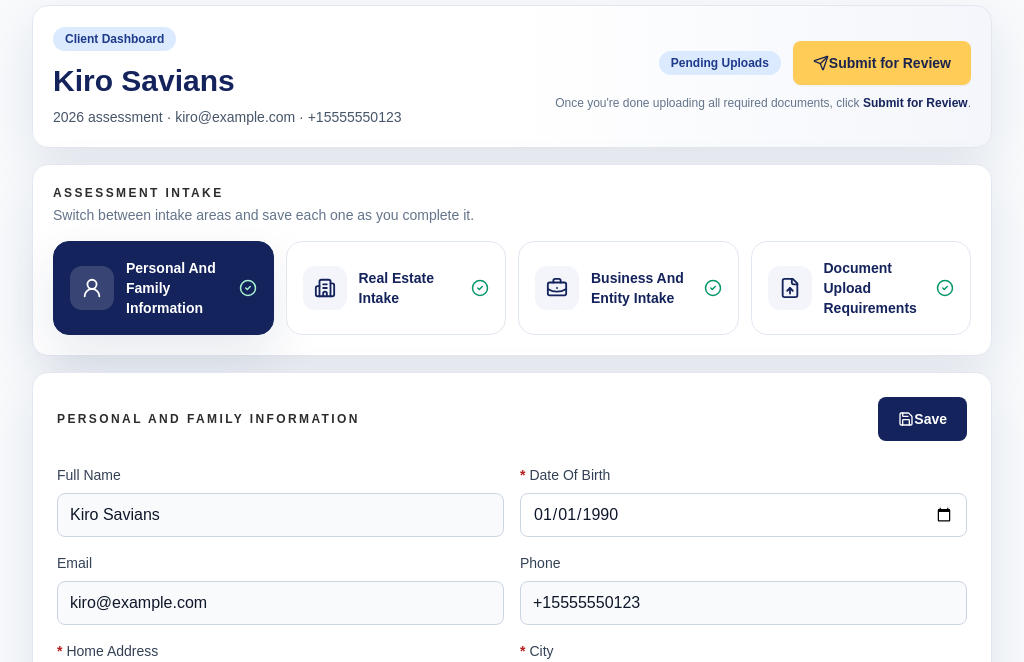
Test: PortalDashboardClient › autosaves edits when switching to an earlier tab
Expected: the heading "Kiro Savians" is shown, [53, 64, 235, 97]
Step 1. Click the button "Real Estate Intake" → click(396, 288), box [286, 241, 506, 335]
(page scrolled)
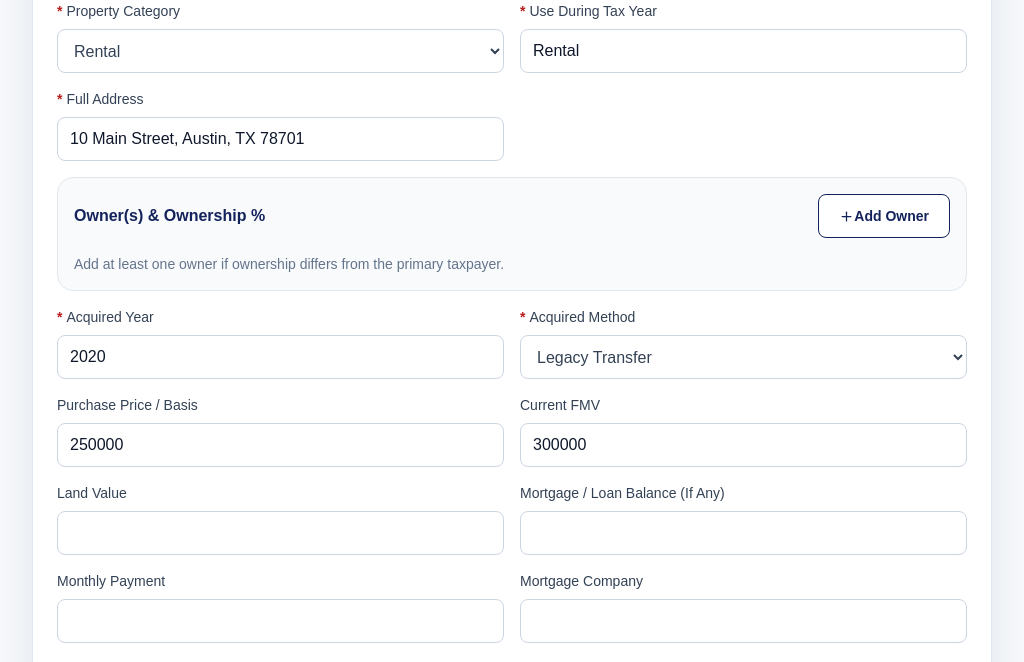
Step 2. Select "Gift" in the dropdown labelled "Acquired Method" → (744, 357), box [520, 335, 967, 379]
(page scrolled)
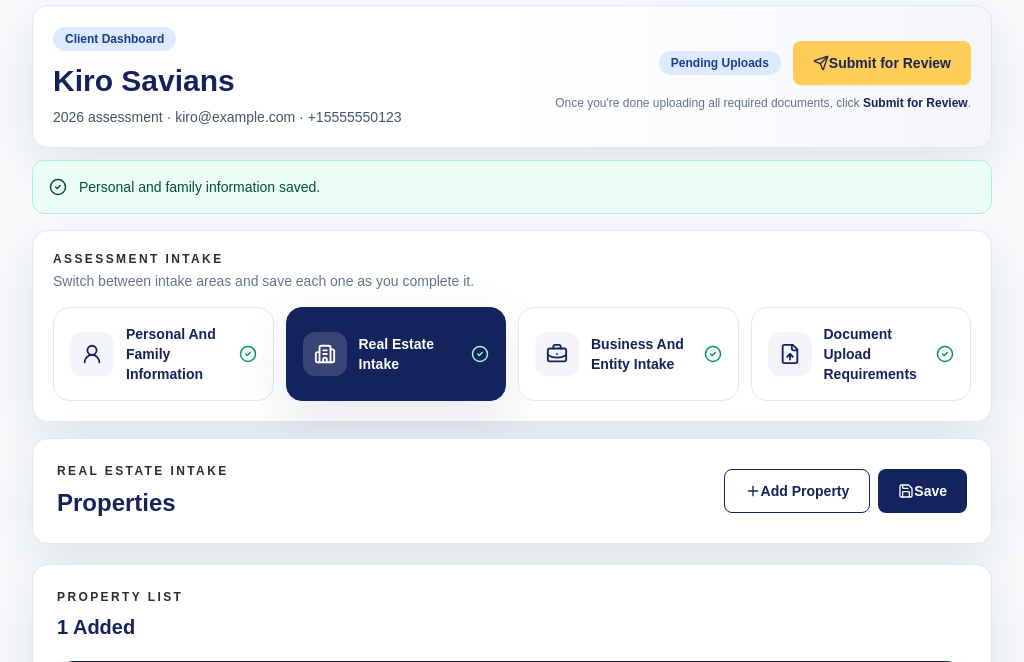
Step 3. Click the button "Personal And Family Information" → click(163, 354), box [53, 307, 274, 401]
(page scrolled)
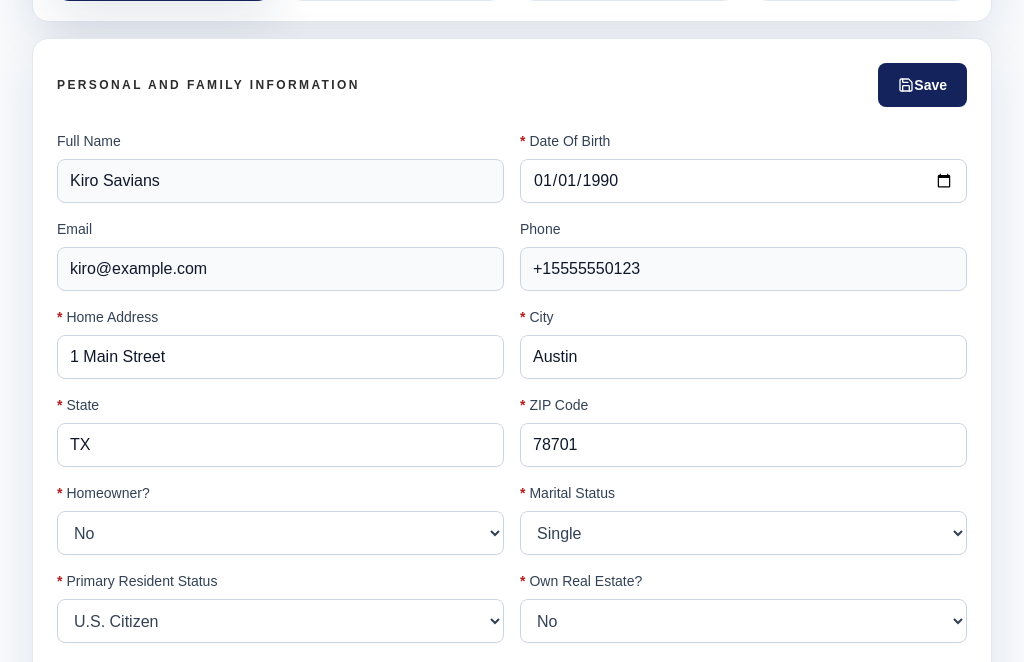
Expected: the field labelled "Home Address" is shown, [57, 335, 504, 379]
